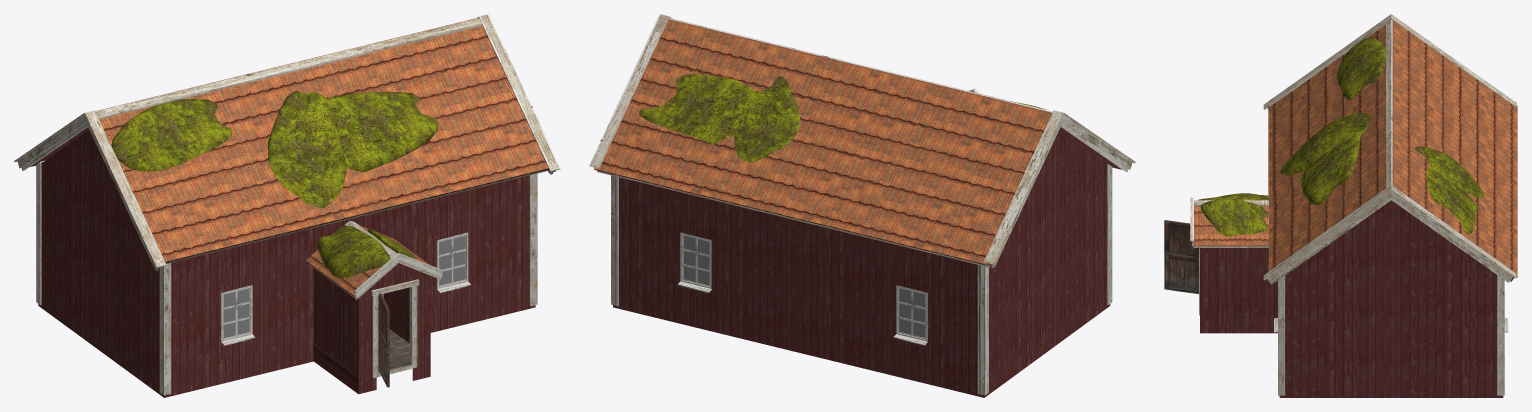
Rendered from Low_Poly_Swedish_Cottage.glb.
3 views of the same model, side by side, from view 1: azimuth 30°, elevation 25°; view 2: azimuth 150°, elevation 25°; view 3: azimuth 270°, elevation 25° (orthographic). The views are drawn at different scales.
Parts seen in each view (by area): view 1: unnamed (×8); view 2: unnamed (×6); view 3: unnamed (×5).
Boxes of the visible parts, x1,y1,x2,y2 form: unnamed (×8): [14, 14, 560, 397]; unnamed (×6): [589, 14, 1135, 397]; unnamed (×5): [1164, 14, 1517, 397].
Size of the model in its own units: 12.45 by 7.16 by 10.62.
8 materials, 7 textured.
